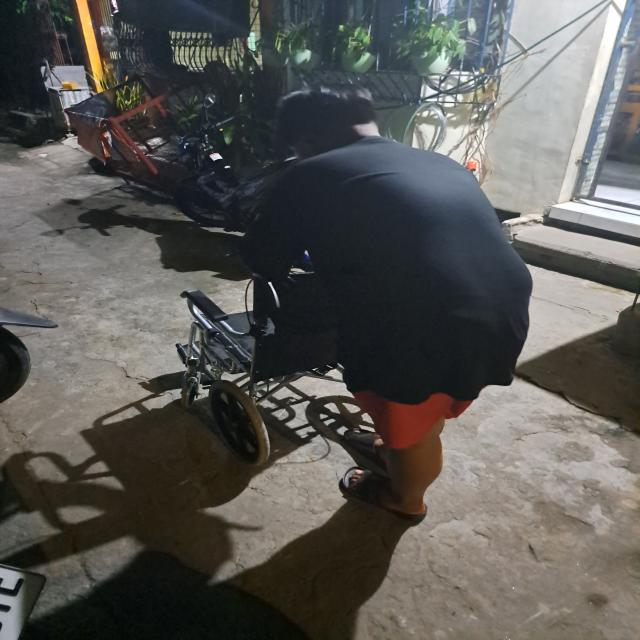wheelchairs: (154, 258, 402, 470)
